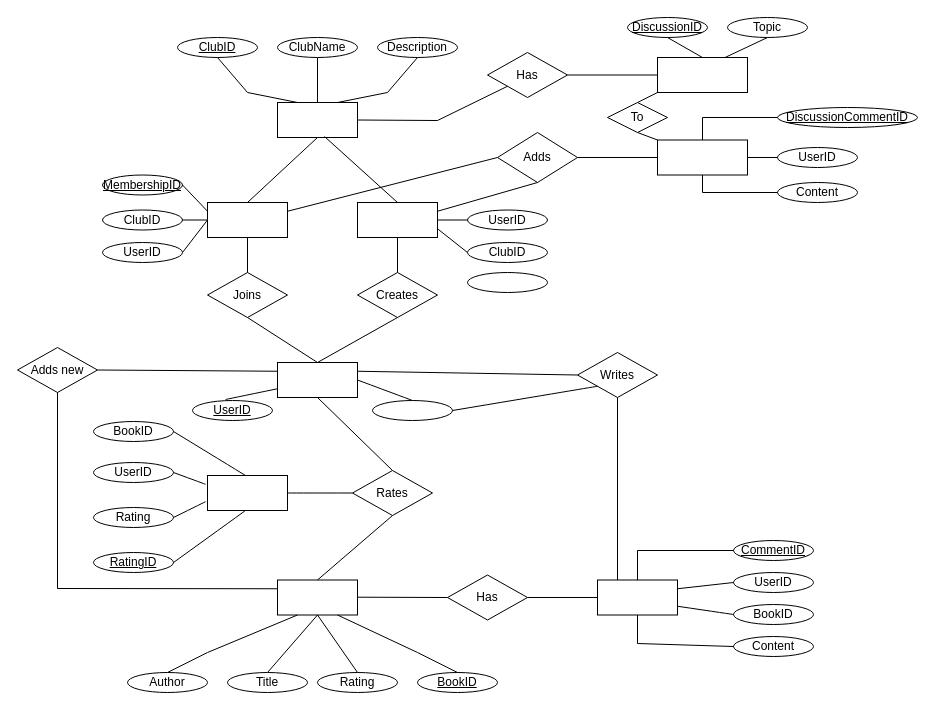
This 935x710 diagram has some shape labels left out. Each missing label, with the centre of its shape:
"Book" goes at (317,597).
"Book Comment" goes at (637,597).
"Bookclub" goes at (317,120).
"BookDiscussion" goes at (702,74).
"BookRating" goes at (247,492).
"Discussion Comment" goes at (702,157).
"Membership" goes at (247,220).
"Owner" goes at (397,220).
"OwnerID" goes at (507,282).
"User" goes at (317,380).
"Username" goes at (412,410).
